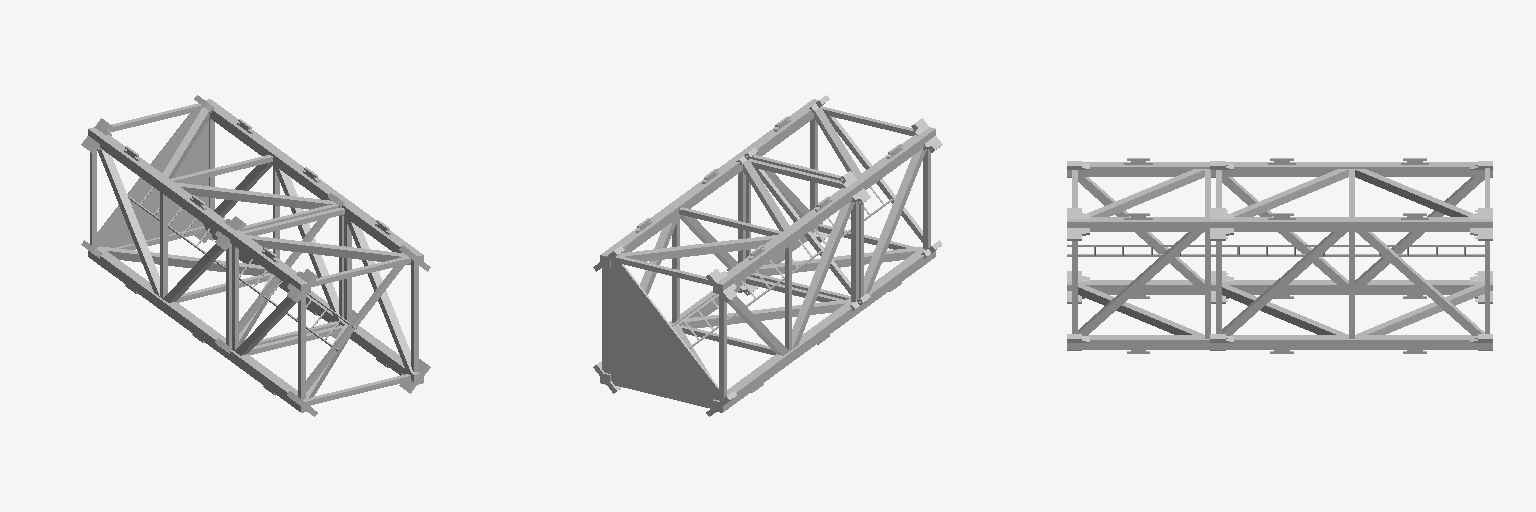
Rendered from gangjia1.obj.
3 views of the same model, side by side, from view 1: azimuth 30°, elevation 25°; view 2: azimuth 150°, elevation 25°; view 3: azimuth 270°, elevation 25° (orthographic).
Visible parts, largest first — view 1: gangjia:Obj3d66FBXASC[number redacted]FBXASC045286FBXASC045281 gangjia:g; view 2: gangjia:Obj3d66FBXASC[number redacted]FBXASC045286FBXASC045281 gangjia:g; view 3: gangjia:Obj3d66FBXASC[number redacted]FBXASC045286FBXASC045281 gangjia:g.
Boxes of the visible parts, <box> form: gangjia:Obj3d66FBXASC[number redacted]FBXASC045286FBXASC045281 gangjia:g: <box>81,95,430,416</box>; gangjia:Obj3d66FBXASC[number redacted]FBXASC045286FBXASC045281 gangjia:g: <box>593,95,942,416</box>; gangjia:Obj3d66FBXASC[number redacted]FBXASC045286FBXASC045281 gangjia:g: <box>1067,158,1492,353</box>.
Size of the model in its own units: 18.98 by 18.98 by 51.23.